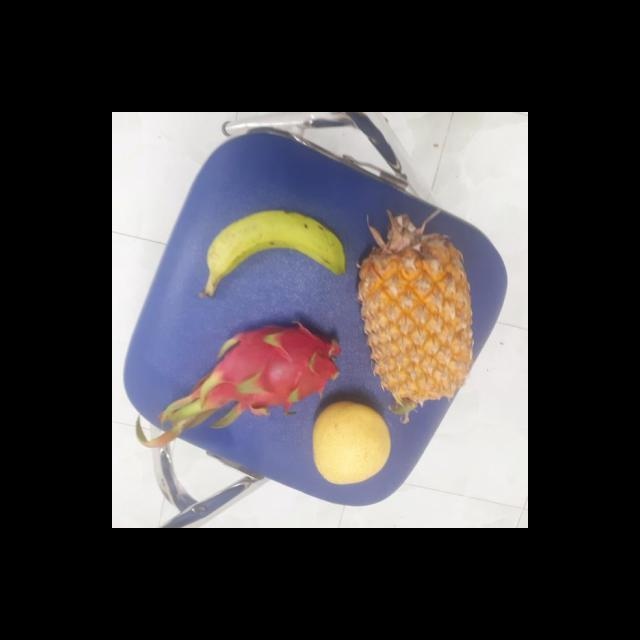banana: (195, 210, 342, 297)
pear: (310, 404, 393, 486)
pineapple: (356, 230, 472, 408)
pitaya: (194, 320, 340, 416)
